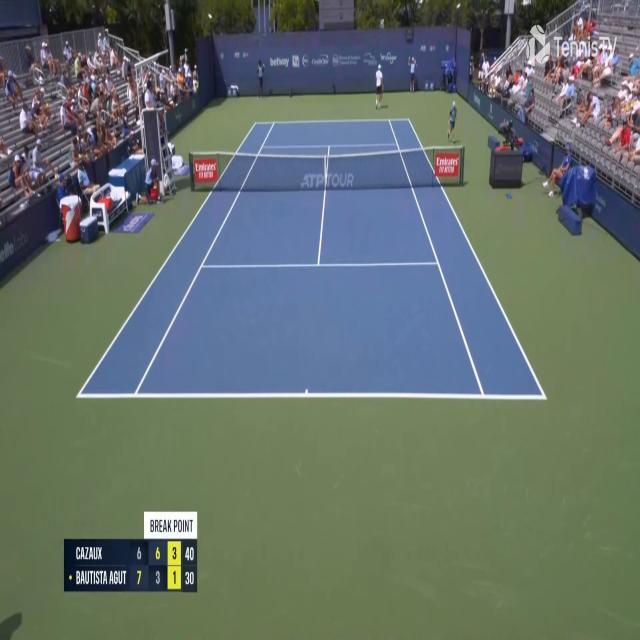tennis-player: (374, 61, 384, 108)
